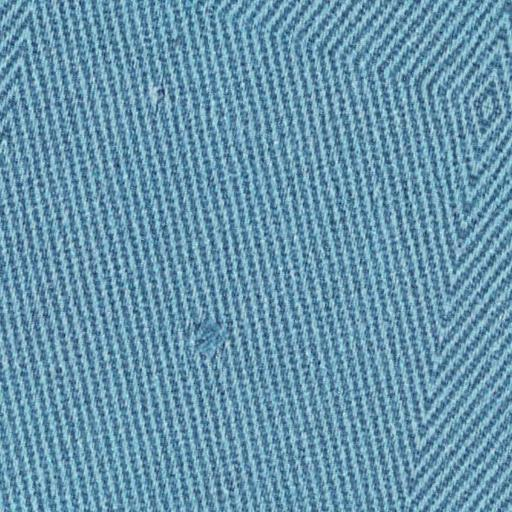knot: (174, 309, 240, 368)
